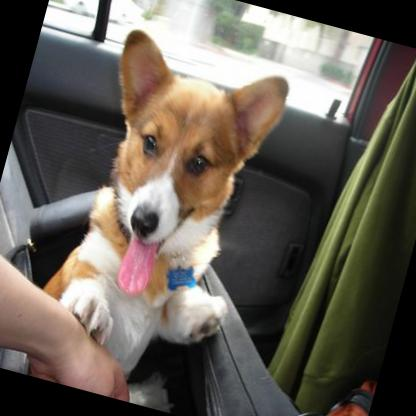Pembroke: (22, 20, 301, 402)
